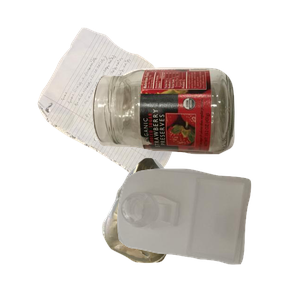glass: (89, 65, 300, 212)
paper: (35, 25, 232, 204)
plastic: (115, 166, 300, 300)
trash: (99, 155, 268, 300)
